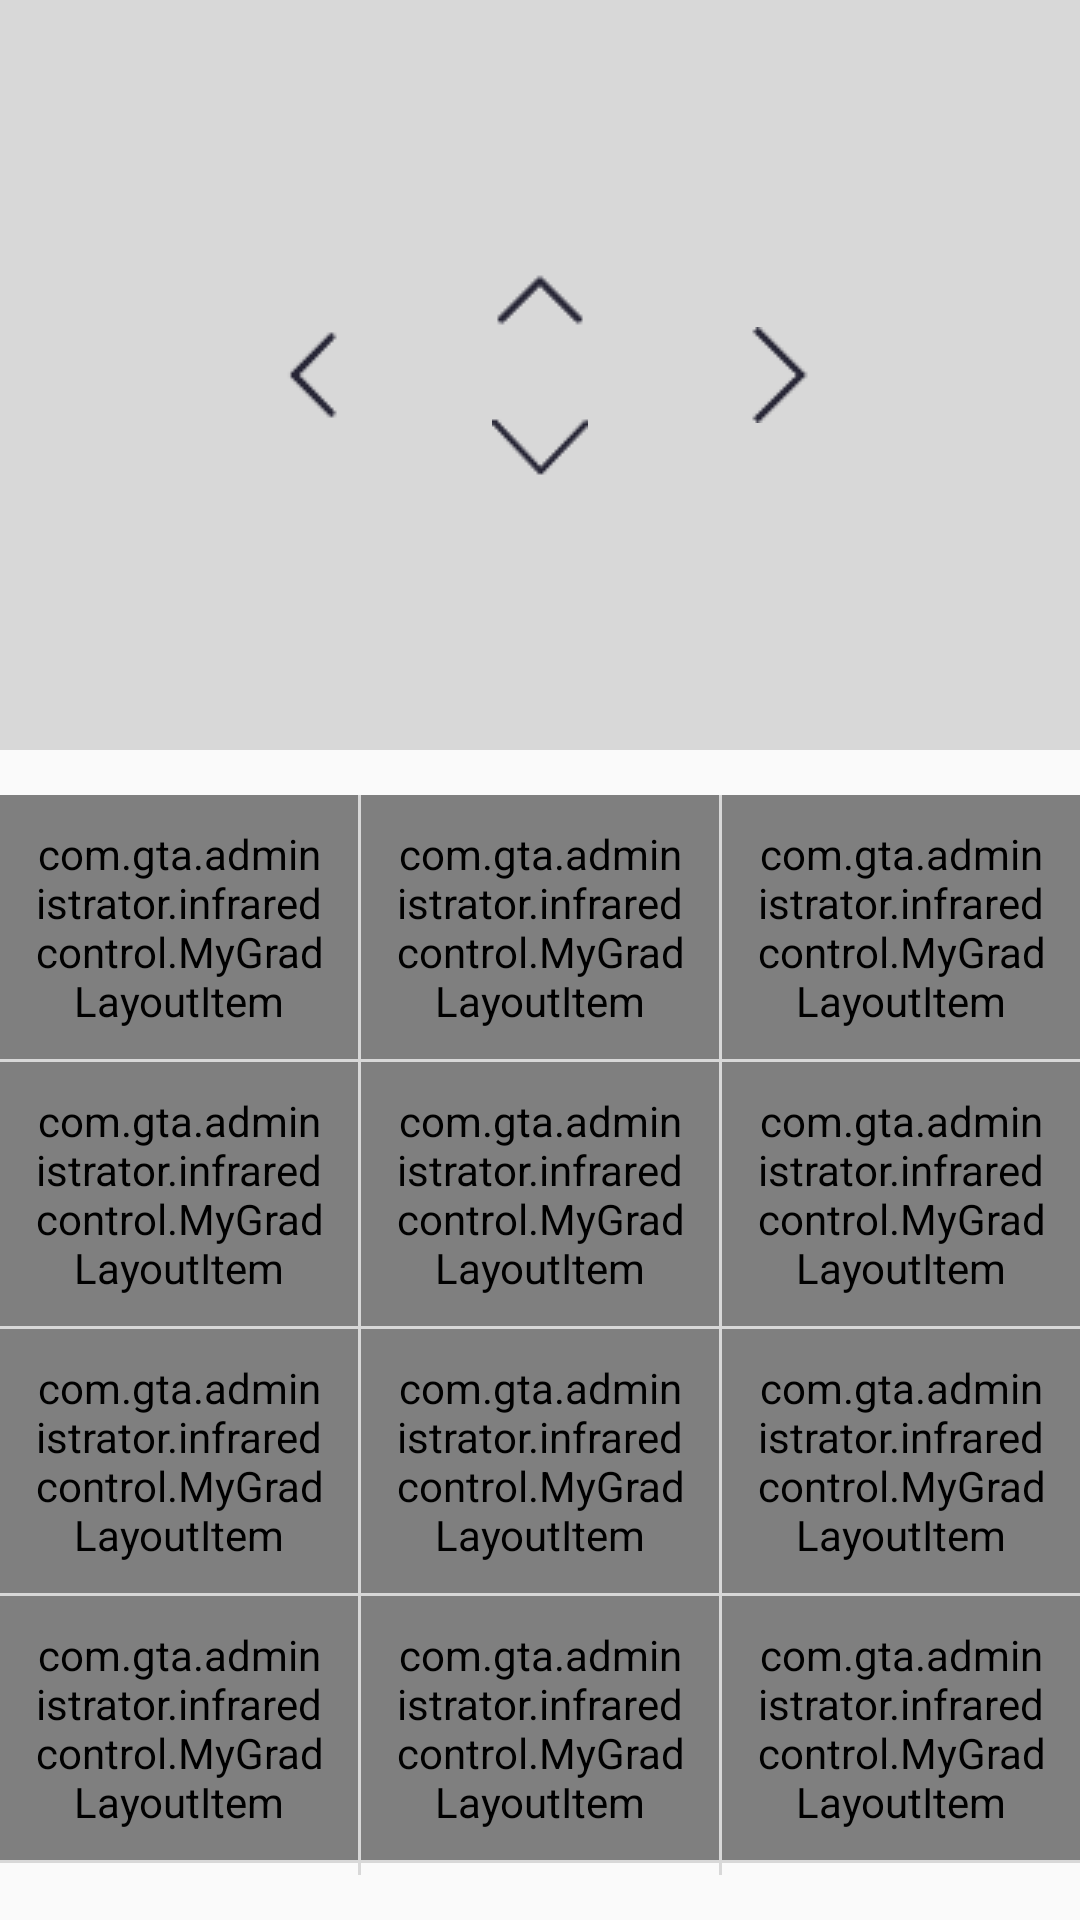

Icons on this 1080px x 1920px Android screen, each with the point to tap as (x=x, y=y):
down: (x=540, y=447)
left: (x=313, y=375)
right: (x=779, y=375)
